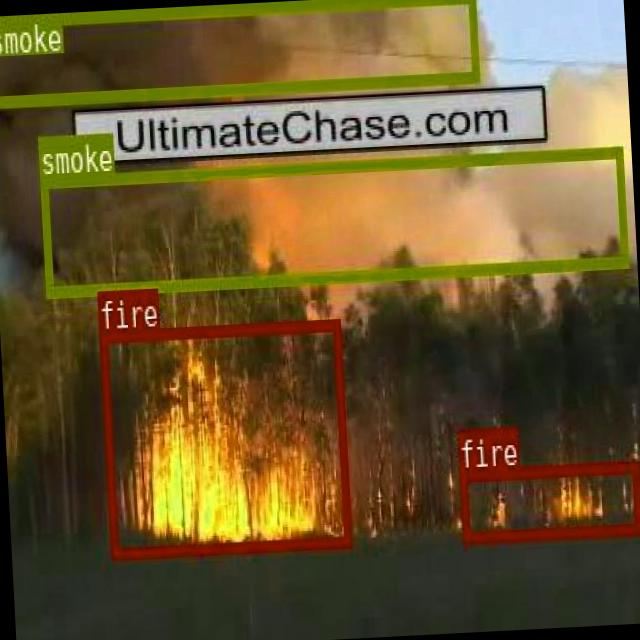fire: (98, 316, 350, 556), (458, 459, 640, 542)
smoke: (39, 144, 628, 295), (0, 0, 477, 107)
